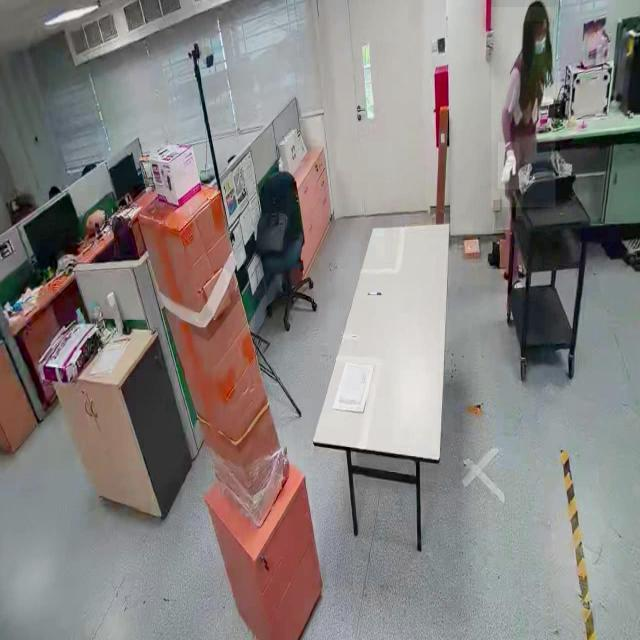face_mask: (532, 24, 549, 66)
hand_glove: (498, 142, 520, 190)
head_nohelmet: (525, 1, 549, 22)
person: (491, 7, 555, 208)
